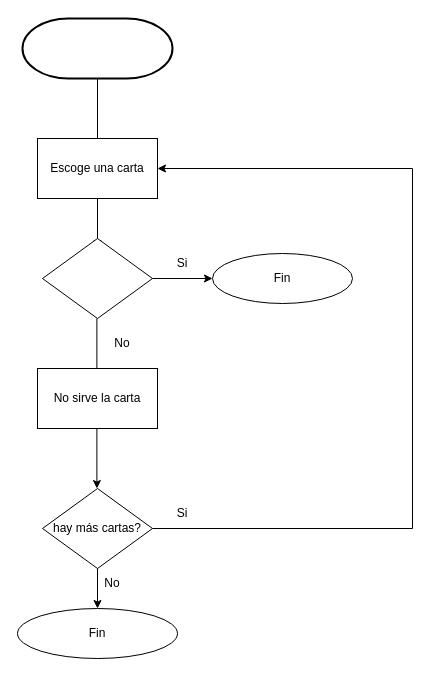
This 438x684 diagram has some shape labels left out. Each missing label, with the box of its shape:
Es al As?: (42, 238, 152, 318)
inicio: (21, 17, 173, 79)
